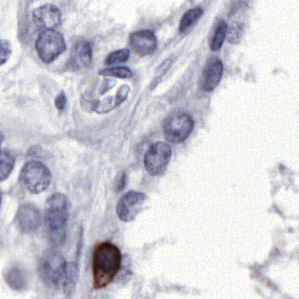Lymphocyte: (92, 242, 122, 291)
